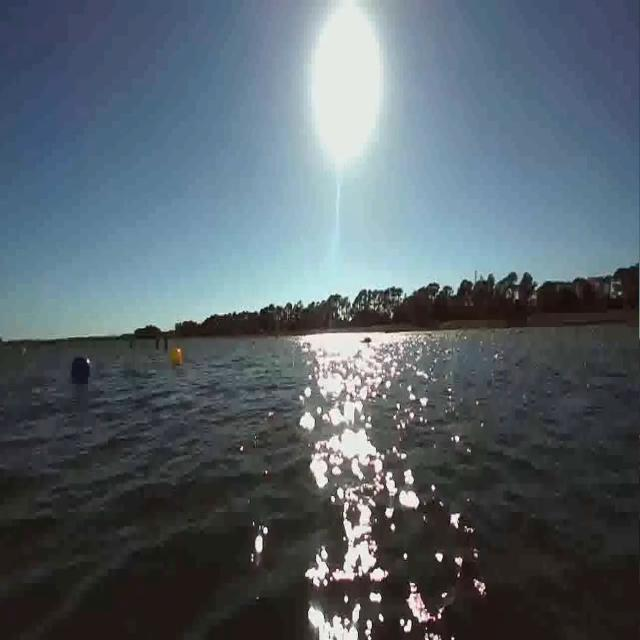black-buoy: (68, 351, 92, 385)
yellow-buoy: (170, 345, 183, 367)
